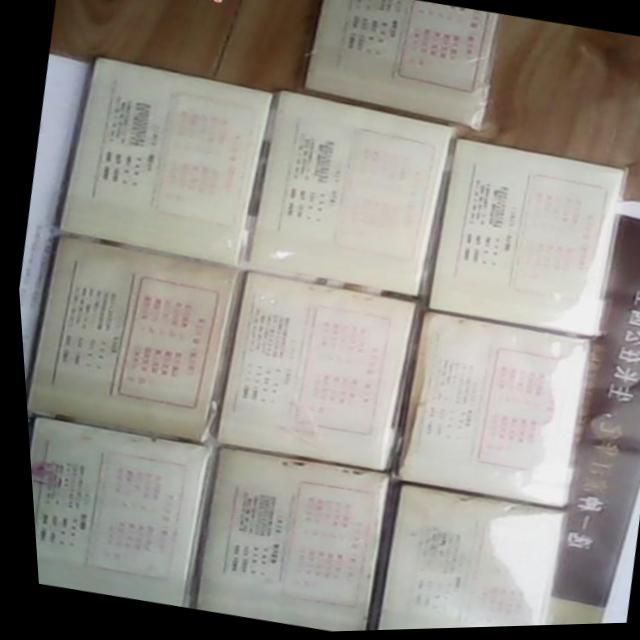box: (53, 57, 278, 271), (21, 234, 245, 443), (244, 91, 451, 300), (209, 269, 418, 475), (423, 139, 626, 341), (384, 312, 586, 513), (184, 446, 386, 633), (23, 414, 209, 610), (359, 481, 558, 632), (303, 0, 502, 134)
